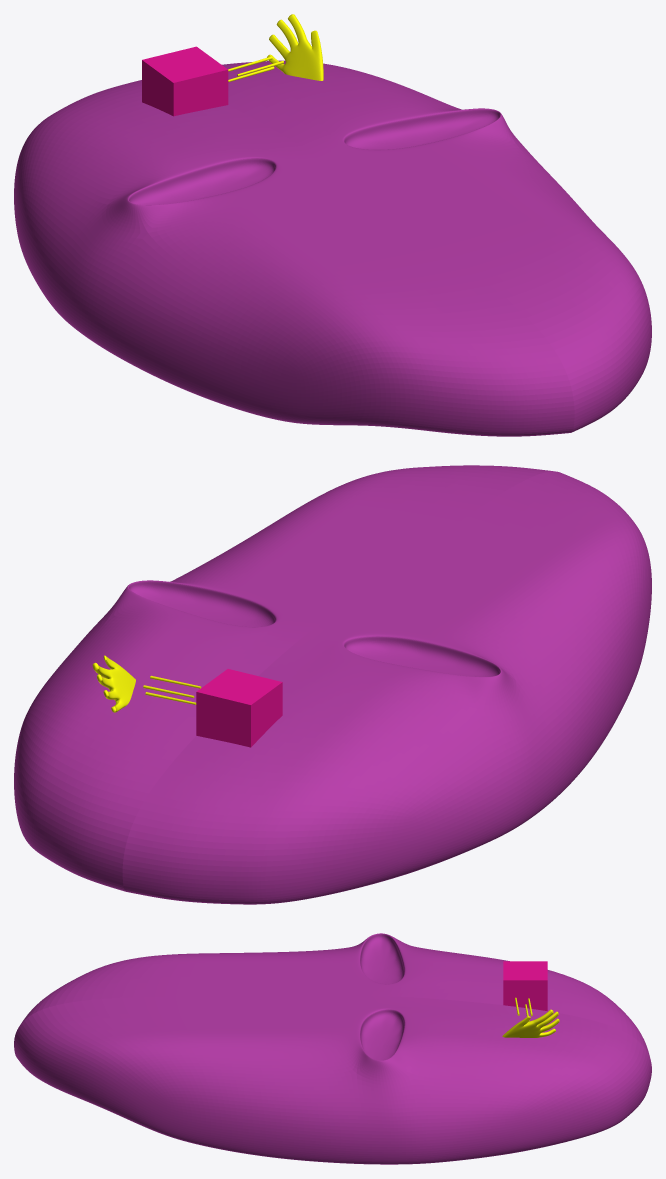
File: Mask.Grab.1.0.fbx
3 views of the same model, one above another, from view 1: azimuth 30°, elevation 25°; view 2: azimuth 150°, elevation 25°; view 3: azimuth 270°, elevation 25° (orthographic). The views are drawn at different scales.
Parts seen in each view (by area): view 1: Mask, Cube, Hand; view 2: Mask, Cube, Hand; view 3: Mask, Cube, Hand.
Boxes of the visible parts, x1,y1,x2,y2 form: Mask: [14, 60, 651, 436]; Cube: [142, 46, 228, 116]; Hand: [267, 14, 323, 80]; Mask: [14, 465, 651, 904]; Cube: [196, 669, 282, 747]; Hand: [92, 655, 135, 712]; Mask: [14, 933, 651, 1164]; Cube: [503, 961, 547, 1011]; Hand: [502, 1009, 559, 1037].
Size of the model in its own units: 324 by 106 by 550.
